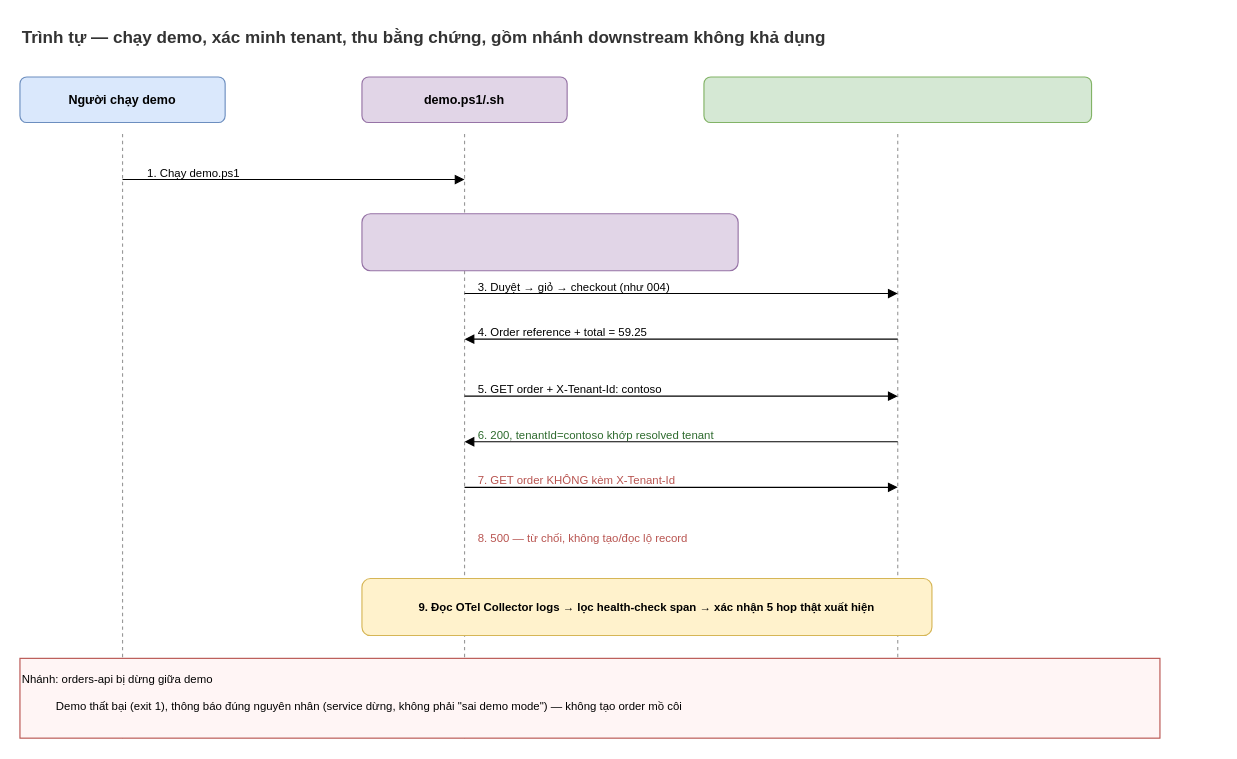
Image size: 1237x759. Some labels were removed from this diagram. The centre of each missing label's shape, as x and y in pixels:
2. Chờ ready → dọn giỏ hàng → walkthrough Playwright thật: the point at 549,242
Storefront → Gateway → BFF → Orders: the point at 897,99
